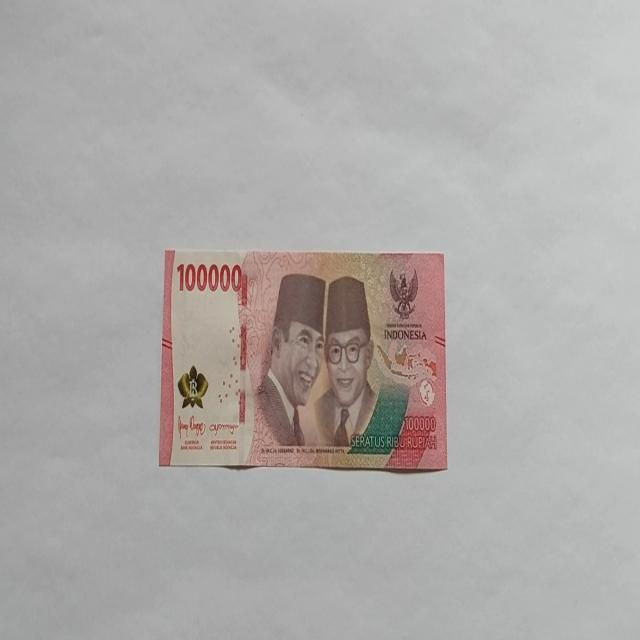seratus ribu rupiah: (158, 247, 448, 471)
